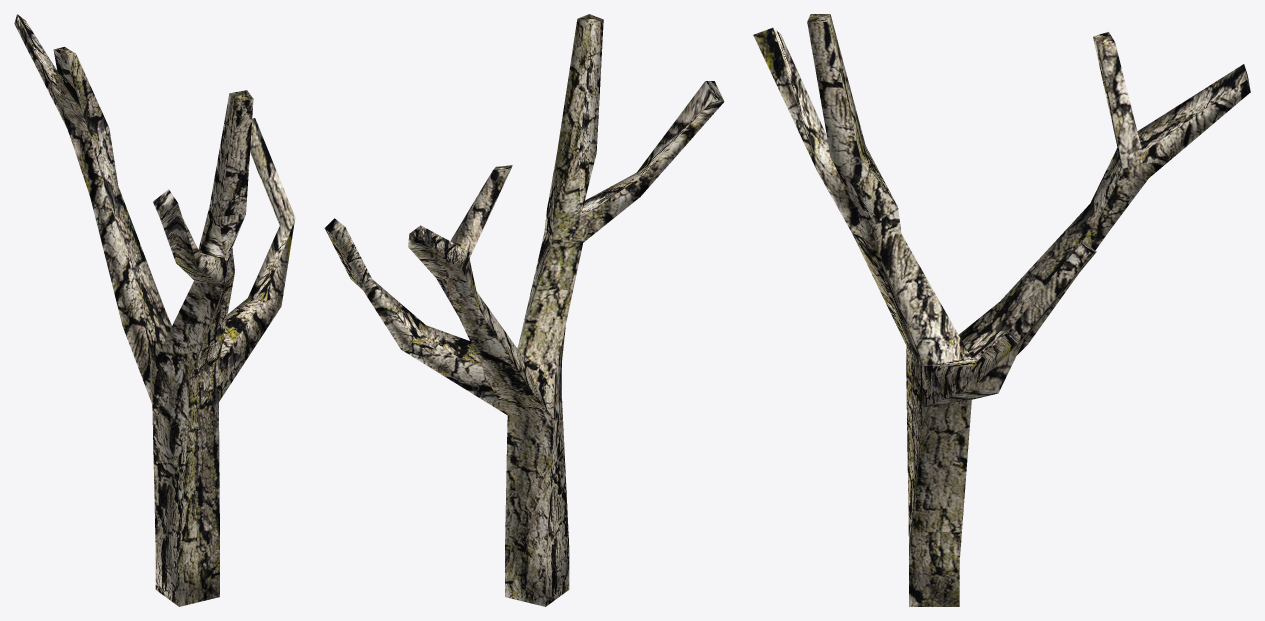
The model's file is NEWtree.fbx.
The picture shows the model from 3 angles, left to right: view 1: azimuth 30°, elevation 25°; view 2: azimuth 150°, elevation 25°; view 3: azimuth 270°, elevation 25°; orthographic projection. The views are drawn at different scales.
Parts seen in each view (by area): view 1: pCube1; view 2: pCube1; view 3: pCube1.
Boxes of the visible parts, box(x1,y1,x2,y2) form: pCube1: box(14, 14, 295, 606); pCube1: box(324, 14, 724, 606); pCube1: box(753, 14, 1250, 606).
Bounding box in the file's own units: 0.3117 × 0.6275 × 0.4888.
